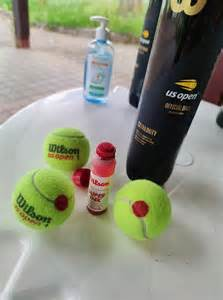tennis_ball: (11, 166, 75, 230), (113, 179, 172, 240), (44, 127, 90, 173)
